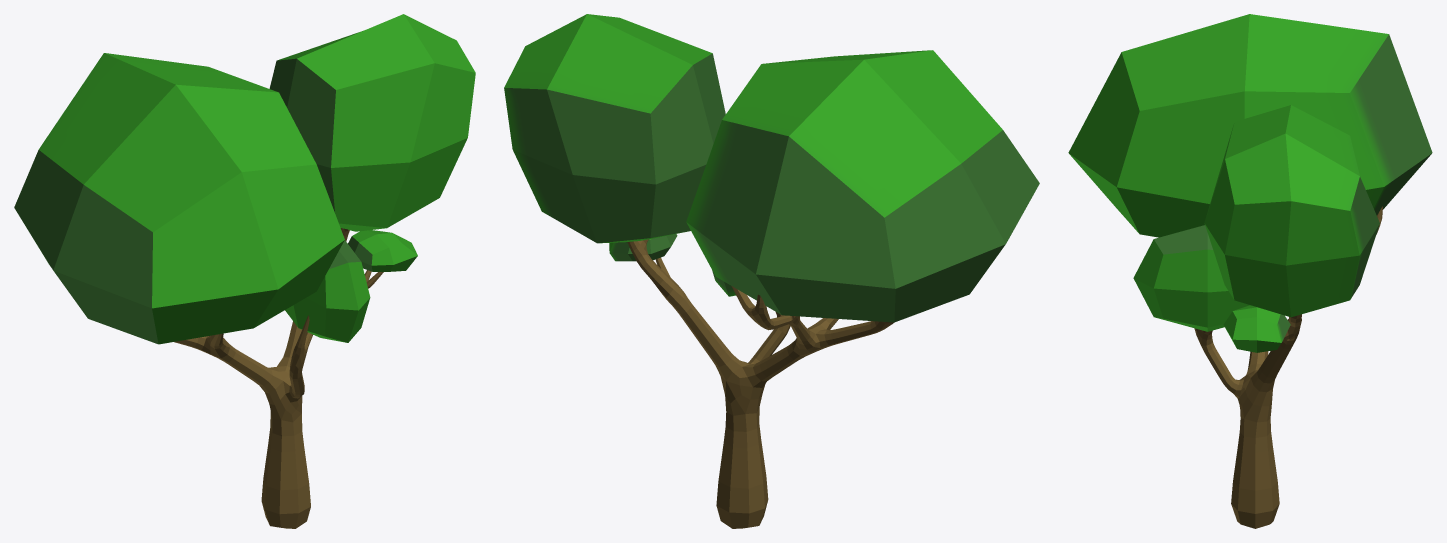
Rendered from SM_Prop_arbol (modelo 1).fbx.
3 renders of one model, left to right at view 1: azimuth 30°, elevation 25°; view 2: azimuth 150°, elevation 25°; view 3: azimuth 270°, elevation 25°, orthographic. The views are drawn at different scales.
Parts seen in each view (by area): view 1: tronco; view 2: tronco; view 3: tronco.
Boxes of the visible parts, x1,y1,x2,y2 form: tronco: (14,14,475,528); tronco: (504,14,1039,528); tronco: (1068,14,1432,528).
Size of the model in its own units: 1225 by 1285 by 922.
Materials: 1 (1 with a texture image).
